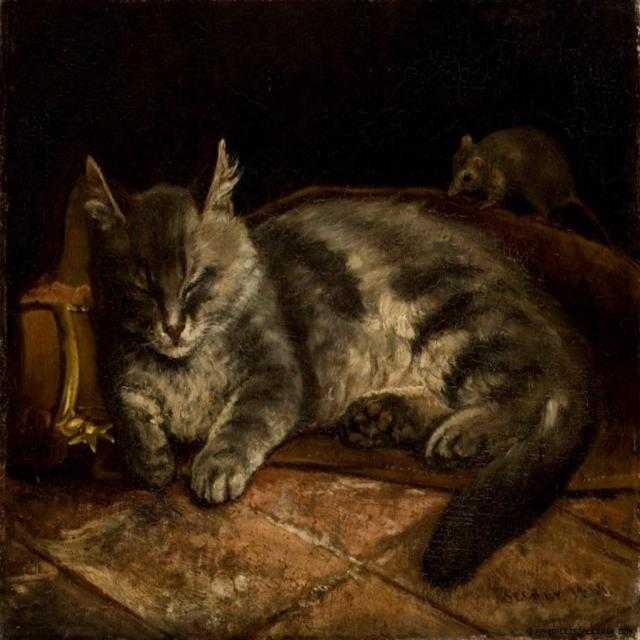Cat: (77, 130, 616, 588)
